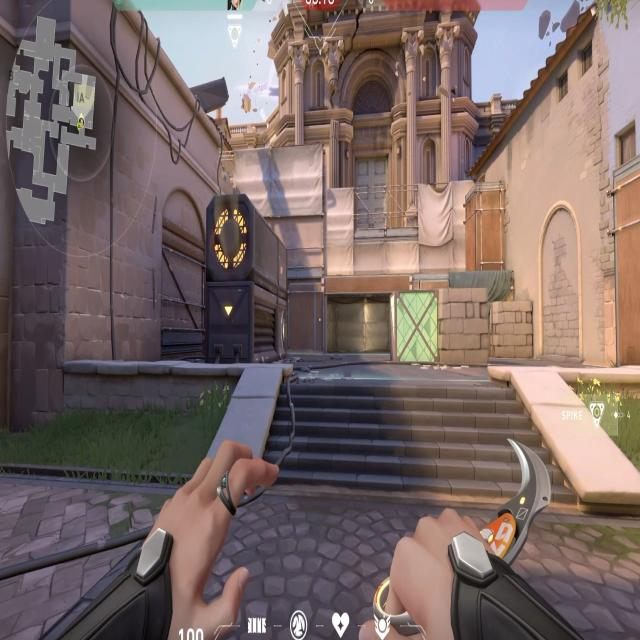A_Heaven_Box: (463, 175, 510, 275)
A_Heaven_Wall: (229, 134, 335, 267)
A_Hell: (321, 269, 422, 366)
A_Site_Box: (381, 281, 494, 370)
